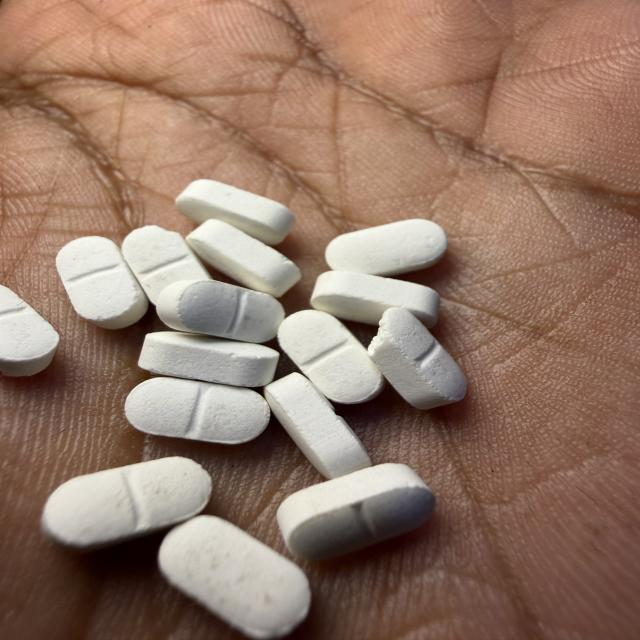pill: (159, 516, 310, 639), (42, 457, 211, 549), (277, 464, 435, 559), (264, 373, 371, 478), (278, 310, 383, 403), (369, 309, 466, 409), (125, 378, 270, 444), (187, 220, 301, 297), (56, 237, 148, 329), (157, 280, 284, 342), (176, 179, 295, 245), (139, 332, 279, 387), (311, 271, 439, 327), (123, 226, 210, 304), (326, 219, 447, 275), (0, 286, 59, 376)
